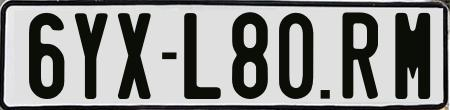0: (278, 13, 317, 103)
6: (26, 13, 66, 99)
8: (231, 11, 267, 104)
L: (183, 10, 224, 96)
M: (393, 10, 431, 97)
R: (339, 10, 378, 98)
X: (115, 13, 149, 99)
Y: (73, 13, 106, 99)
